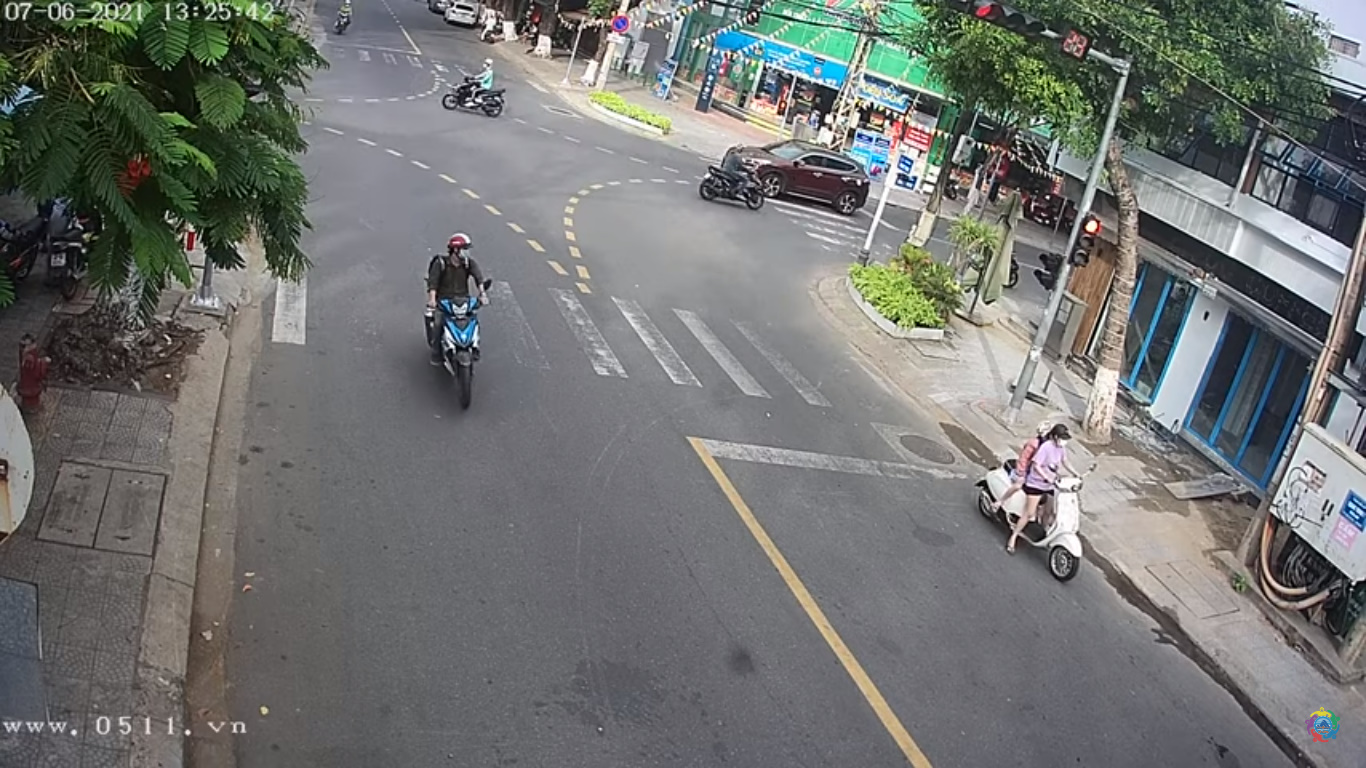motorbike: (973, 414, 1101, 583), (417, 233, 498, 407)
